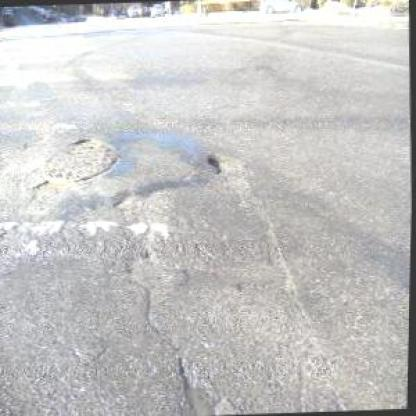pothole: (179, 358, 226, 416), (207, 150, 244, 176)
